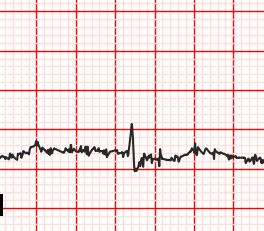Poor R Progression: (123, 122, 144, 157)
ST Depression: (120, 145, 146, 174)
